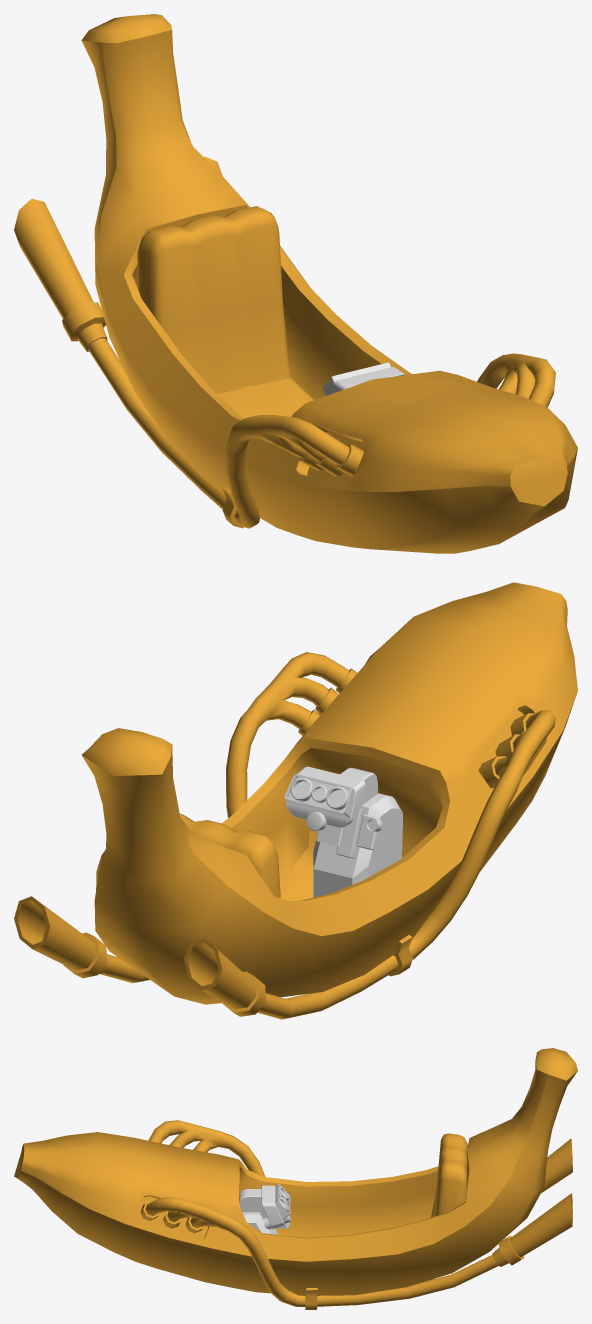
The model's file is SM_BananaCar_Body.fbx.
The picture shows the model from 3 angles, top to bottom: view 1: azimuth 30°, elevation 25°; view 2: azimuth 150°, elevation 25°; view 3: azimuth 270°, elevation 25°; orthographic projection. The views are drawn at different scales.
Parts seen in each view (by area): view 1: SM_Banana_Body, SM_Banana_Engine; view 2: SM_Banana_Body, SM_Banana_Engine; view 3: SM_Banana_Body, SM_Banana_Engine.
Part boxes in pixels (x1,y1,x2,y2): SM_Banana_Body: [14, 14, 577, 553]; SM_Banana_Engine: [322, 362, 404, 395]; SM_Banana_Body: [14, 582, 577, 1019]; SM_Banana_Engine: [284, 766, 402, 897]; SM_Banana_Body: [14, 1048, 577, 1309]; SM_Banana_Engine: [239, 1184, 291, 1234].
Bounding box in the file's own units: 108 × 133 × 294.
